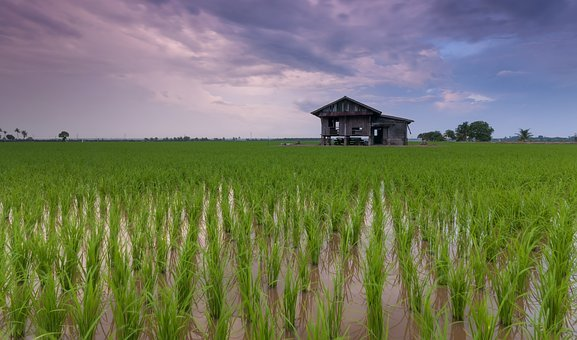field: (7, 143, 575, 340)
house: (319, 90, 414, 140)
sky: (3, 1, 575, 135)
